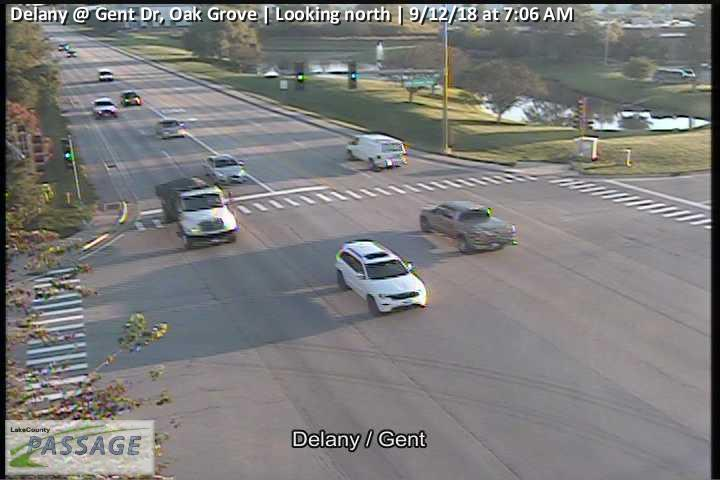SUV: (344, 131, 407, 172), (92, 97, 118, 119)
Sedan: (204, 154, 244, 183), (156, 119, 185, 139), (121, 91, 142, 106), (99, 68, 113, 80)
Truck: (334, 239, 428, 313), (155, 176, 240, 251), (421, 201, 517, 254)
